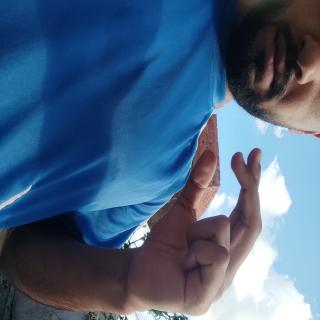DHELL: (107, 60, 240, 266)
